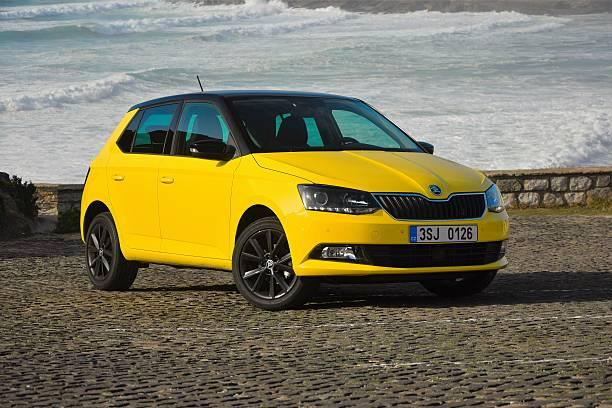skoda: (424, 180, 450, 199)
